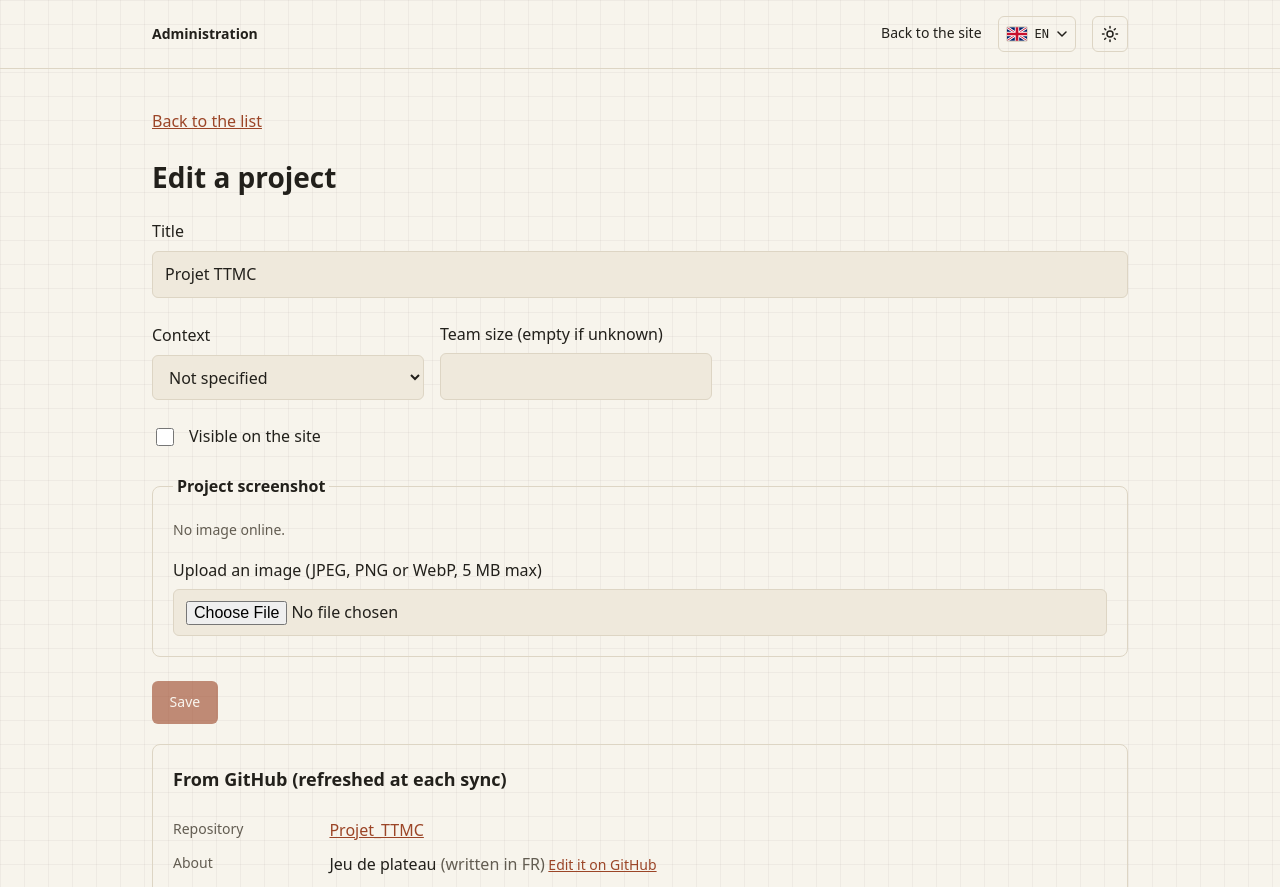
Scenario: project editor › warns before leaving with unsaved changes
Replace the text in the field labelled "Title" with "Changed": (640, 274) [152,251,1128,298]
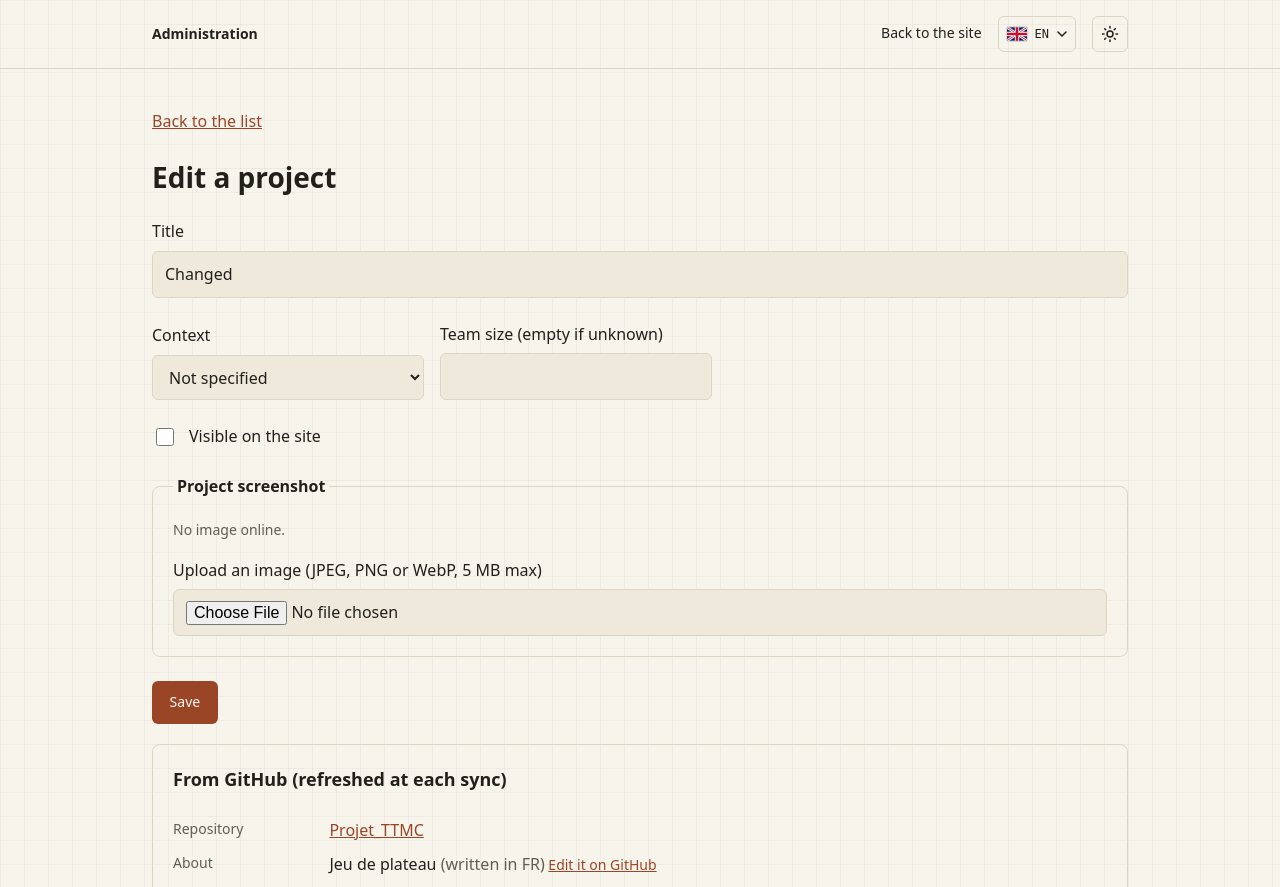
Click the link "Back to the list": (207, 121) [152,110,262,132]
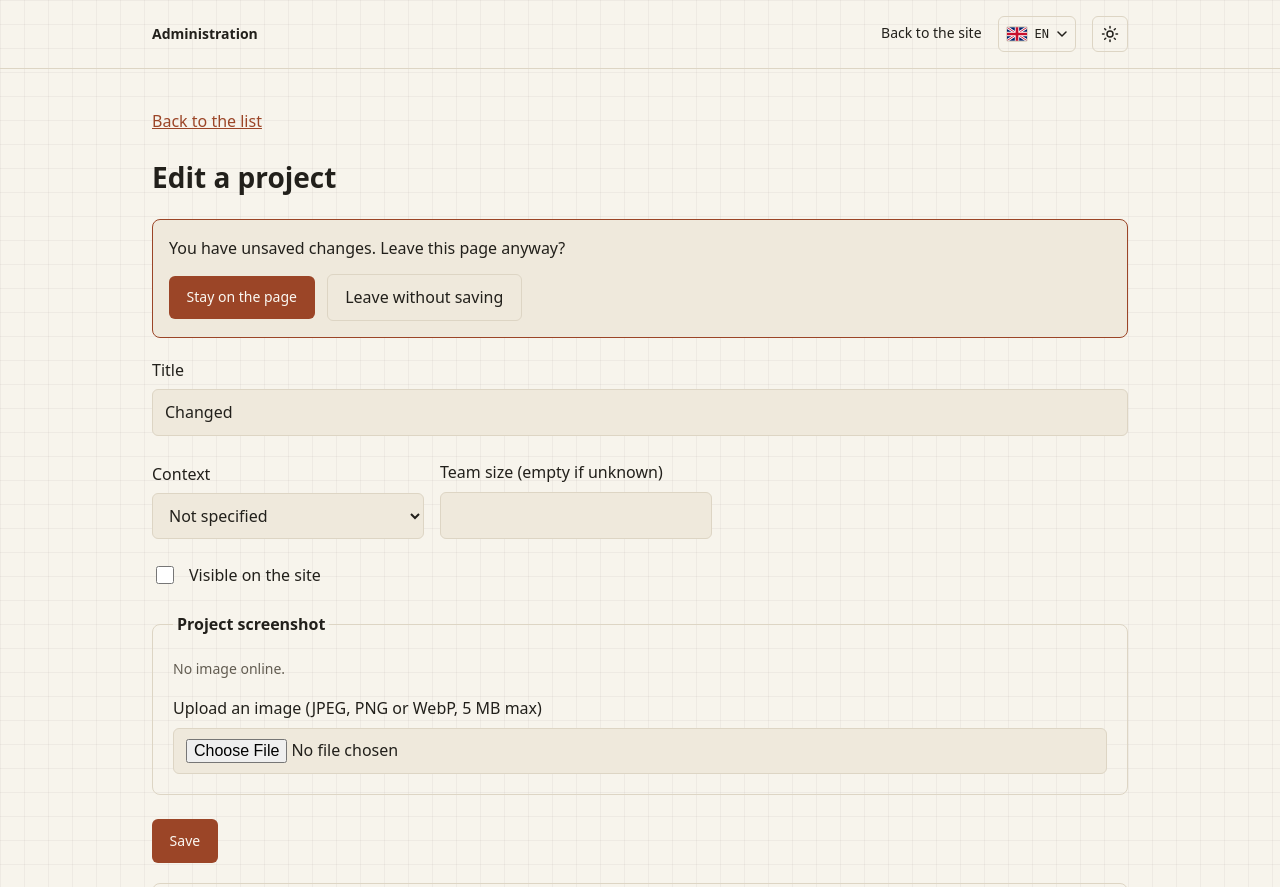
Expected: the dialog shows "unsaved changes", [169,237,565,259]
